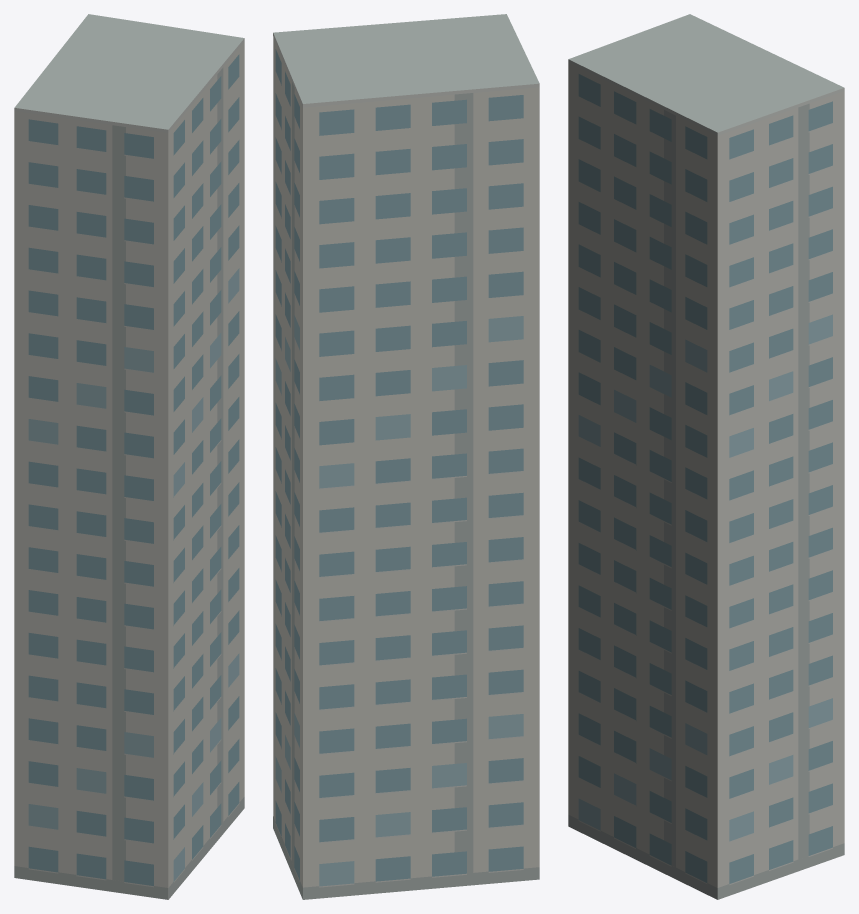
The model's file is survey-upis-32648204.glb.
3 views of the same model, side by side, from view 1: azimuth 30°, elevation 25°; view 2: azimuth 150°, elevation 25°; view 3: azimuth 270°, elevation 25° (orthographic). The views are drawn at different scales.
Visible parts, largest first — view 1: survey-upis-32648204.tmp; view 2: survey-upis-32648204.tmp; view 3: survey-upis-32648204.tmp.
Part boxes in pixels (box(x1,y1,x2,y2)): survey-upis-32648204.tmp: box(14, 14, 244, 899); survey-upis-32648204.tmp: box(273, 14, 539, 899); survey-upis-32648204.tmp: box(568, 14, 844, 899).
Size of the model in its own units: 18.22 by 54.9 by 17.92.
